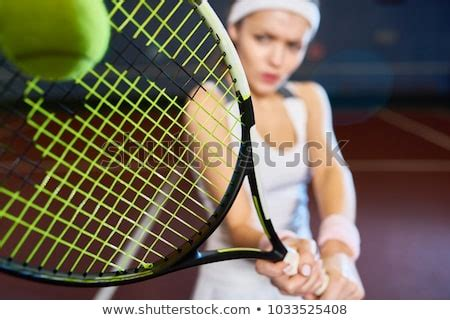tennis_ball: (1, 1, 111, 82)
